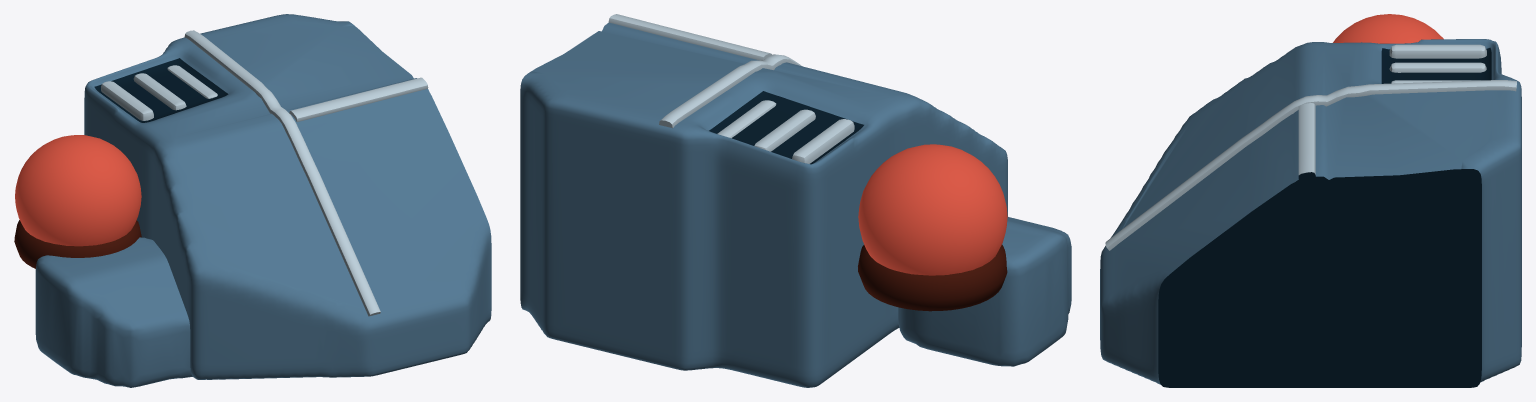
File: arm_ball_left.glb
3 views of the same model, side by side, from view 1: azimuth 30°, elevation 25°; view 2: azimuth 150°, elevation 25°; view 3: azimuth 270°, elevation 25° (orthographic). The views are drawn at different scales.
Visible parts, largest first — view 1: housing1.001, jaw1.001, ball1.001, ridge1.001, collar1.001, crease1.001, fin1_0.001, fin1_1.001, fin1_2.001; view 2: housing1.001, ball1.001, jaw1.001, collar1.001, ridge1.001, crease1.001, fin1_0.001, fin1_1.001, fin1_2.001; view 3: housing1.001, ridge1.001, ball1.001, crease1.001, fin1_0.001, fin1_1.001.
Part boxes in pixels (box(x1,y1,x2,y2)): housing1.001: box(84, 14, 491, 379); jaw1.001: box(35, 237, 192, 387); ball1.001: box(15, 135, 141, 246); ridge1.001: box(184, 30, 380, 316); collar1.001: box(14, 220, 141, 268); crease1.001: box(289, 77, 428, 122); fin1_0.001: box(101, 81, 153, 120); fin1_1.001: box(133, 73, 186, 110); fin1_2.001: box(167, 65, 217, 98); housing1.001: box(520, 22, 1007, 387); ball1.001: box(858, 144, 1007, 275); jaw1.001: box(898, 217, 1071, 366); collar1.001: box(858, 244, 1007, 311); ridge1.001: box(659, 54, 801, 128); crease1.001: box(608, 14, 772, 60); fin1_0.001: box(792, 119, 854, 163); fin1_1.001: box(754, 109, 815, 151); fin1_2.001: box(717, 100, 776, 138); housing1.001: box(1100, 39, 1521, 387); ridge1.001: box(1105, 80, 1516, 250); ball1.001: box(1333, 14, 1443, 43); crease1.001: box(1298, 103, 1315, 184); fin1_0.001: box(1389, 44, 1486, 58); fin1_1.001: box(1389, 62, 1486, 72).
Bounding box in the file's own units: 22.67 × 12.21 × 20.17.
